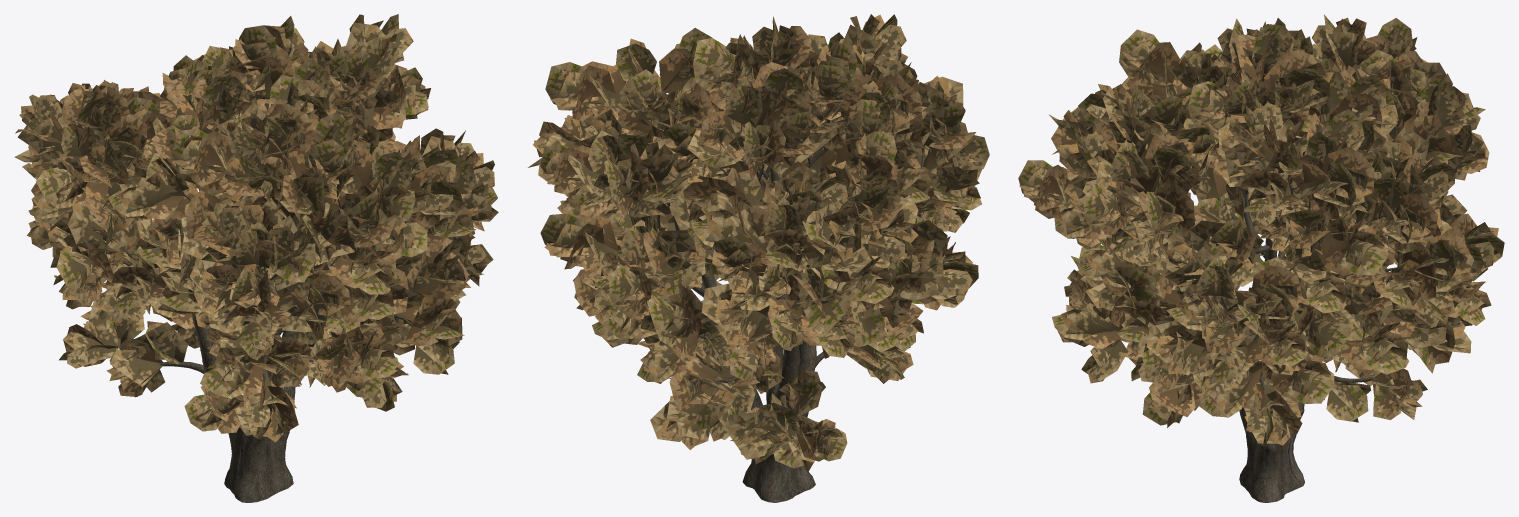
Rendered from SM_Oak_Fall_01a.fbx.
The picture shows the model from 3 angles, left to right: view 1: azimuth 30°, elevation 25°; view 2: azimuth 150°, elevation 25°; view 3: azimuth 270°, elevation 25°; orthographic projection.
Visible parts, largest first — view 1: SM_Oak_Fall_01a_LOD0; view 2: SM_Oak_Fall_01a_LOD0; view 3: SM_Oak_Fall_01a_LOD0.
Boxes of the visible parts, x1=… form: SM_Oak_Fall_01a_LOD0: x1=14, y1=14, x2=498, y2=502; SM_Oak_Fall_01a_LOD0: x1=528, y1=14, x2=989, y2=502; SM_Oak_Fall_01a_LOD0: x1=1018, y1=14, x2=1504, y2=502.
Size of the model in its own units: 2576 by 2513 by 2652.
